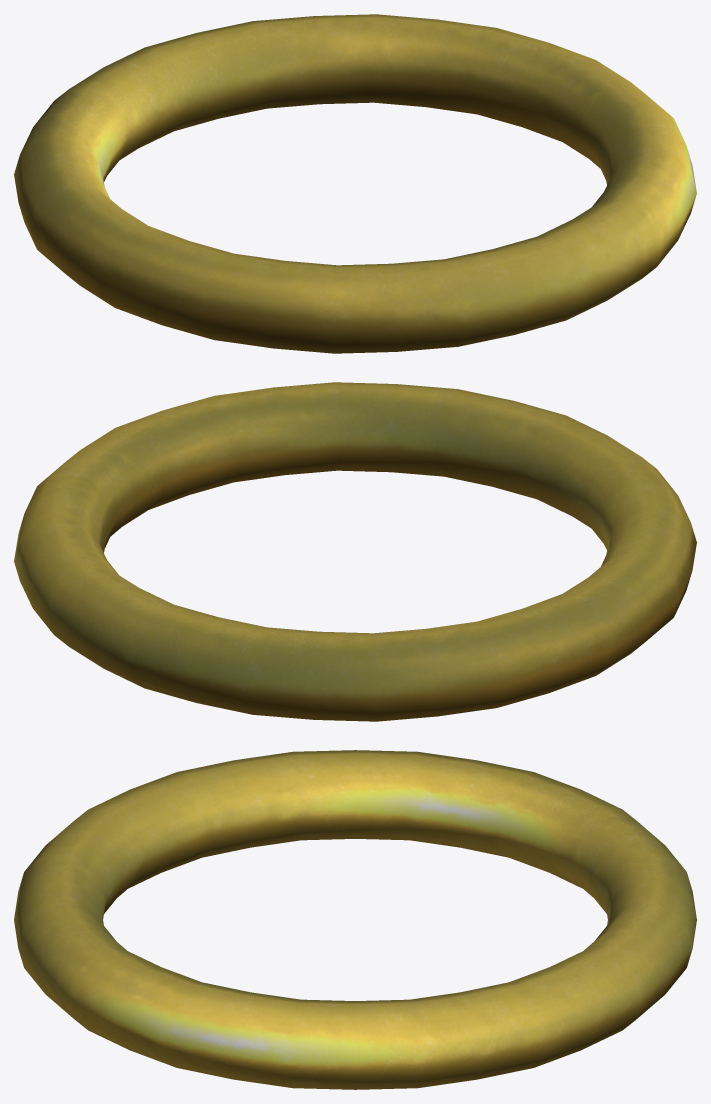
The model's file is Yellow_Ring.fbx.
The picture shows the model from 3 angles, top to bottom: view 1: azimuth 30°, elevation 25°; view 2: azimuth 150°, elevation 25°; view 3: azimuth 270°, elevation 25°; orthographic projection.
Visible parts, largest first — view 1: Torus001; view 2: Torus001; view 3: Torus001.
Part boxes in pixels (x1,y1,x2,y2): Torus001: (14, 14, 696, 353); Torus001: (14, 382, 696, 721); Torus001: (14, 750, 696, 1089).
Bounding box in the file's own units: 23 × 3 × 23.
Materials: 1 (1 with a texture image).
